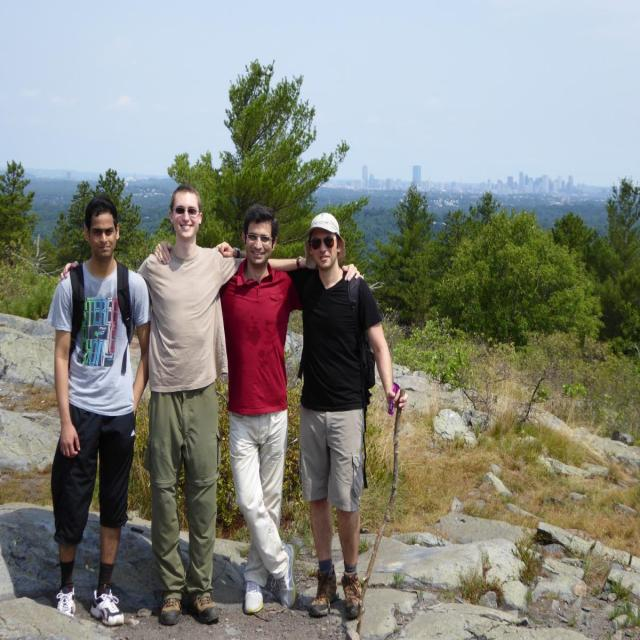body: (53, 182, 311, 626), (155, 206, 365, 614), (218, 208, 408, 622), (48, 192, 155, 628)
